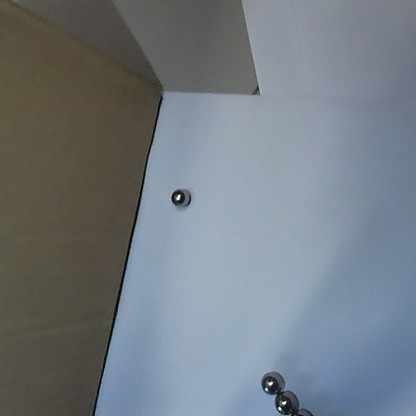ironball: (261, 366, 286, 395), (168, 183, 191, 208), (276, 388, 297, 412), (292, 405, 316, 414)
